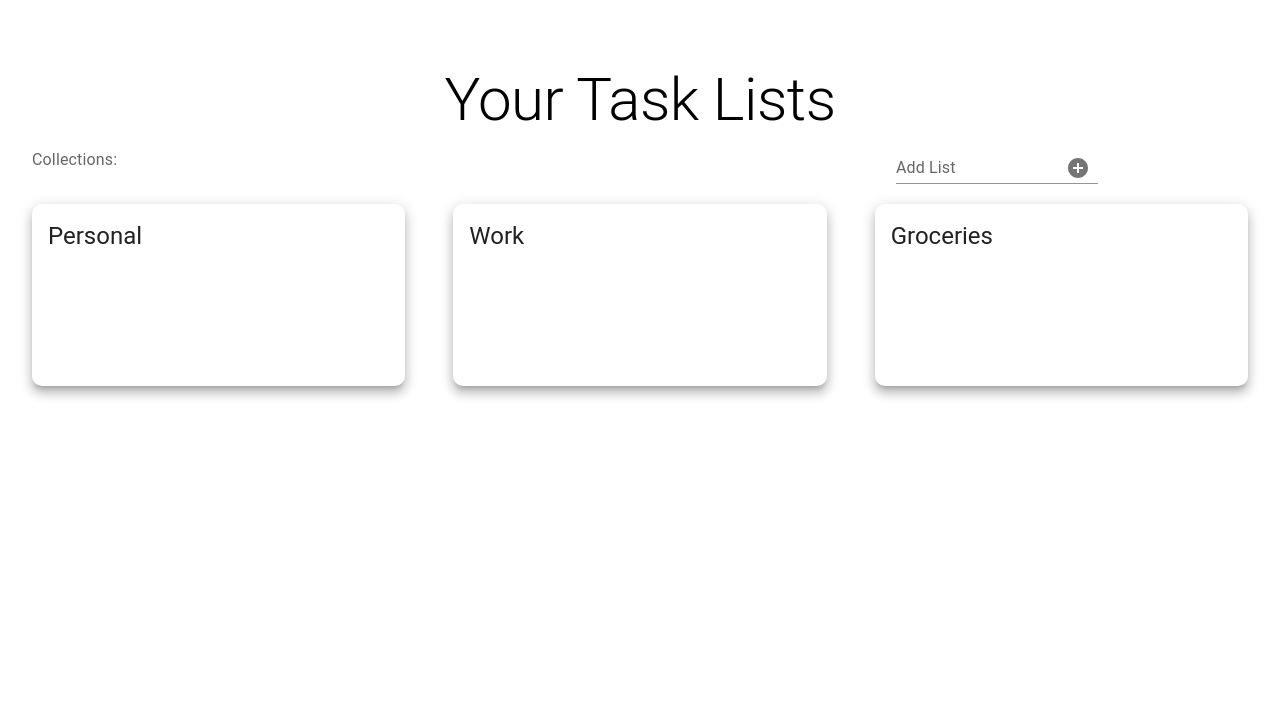
Scenario: Tests the home page › adds new list with userEvent
# type in the new title
Type "a new list test" into the field.
click(973, 168); type("a new list test")  # box [896,152,1050,184]
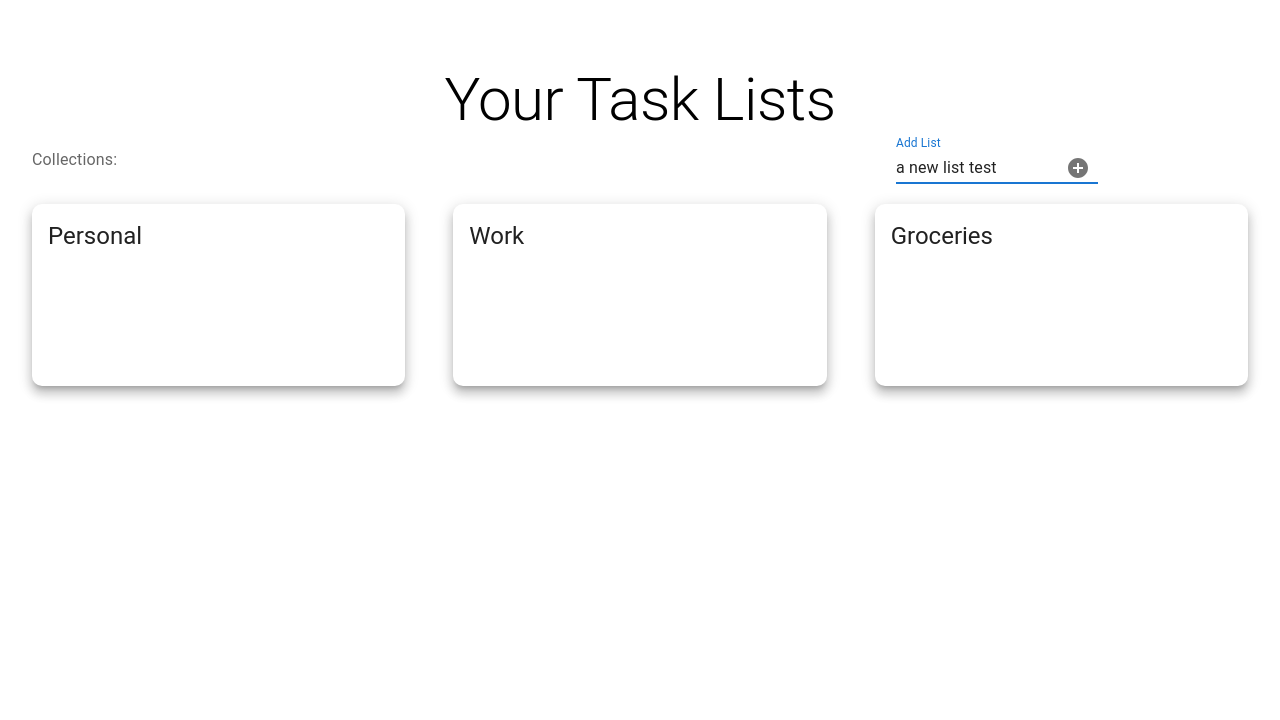
# submit the form
Click the button named "add list".
click(1078, 168)  # box [1058,148,1098,188]
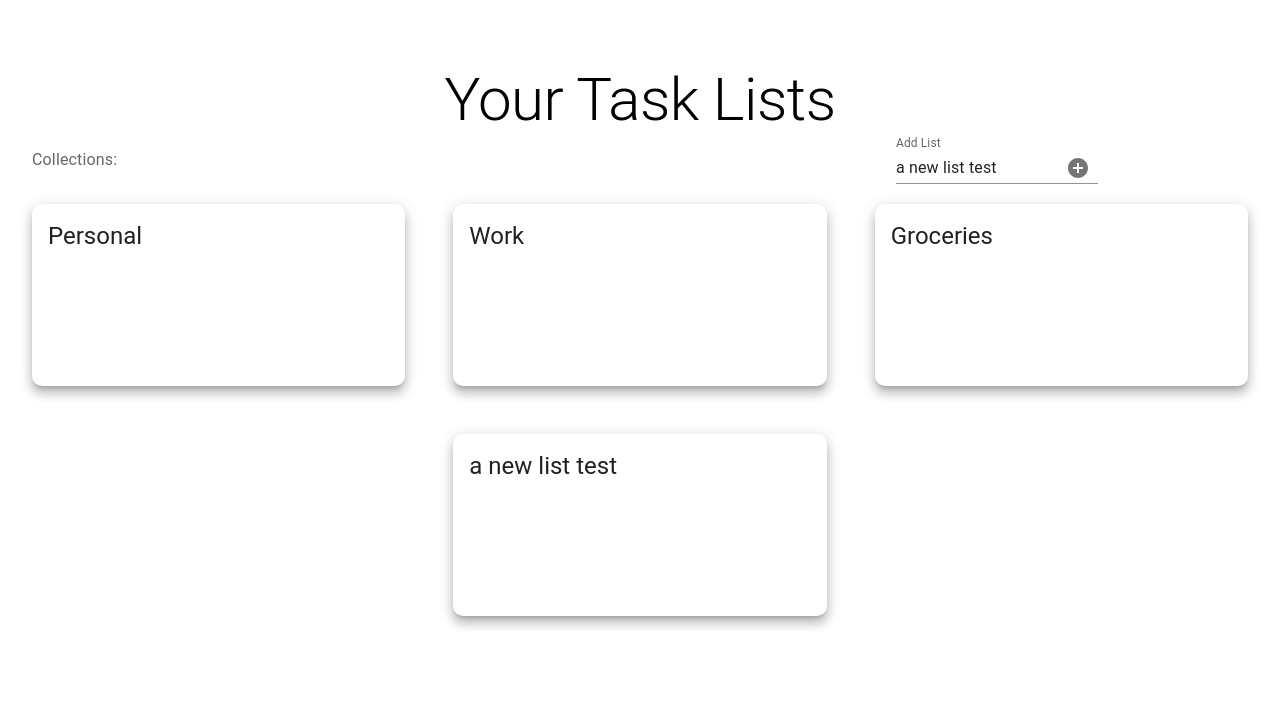
Expected: the text "a new list test" is shown, [469,452,617,480]
